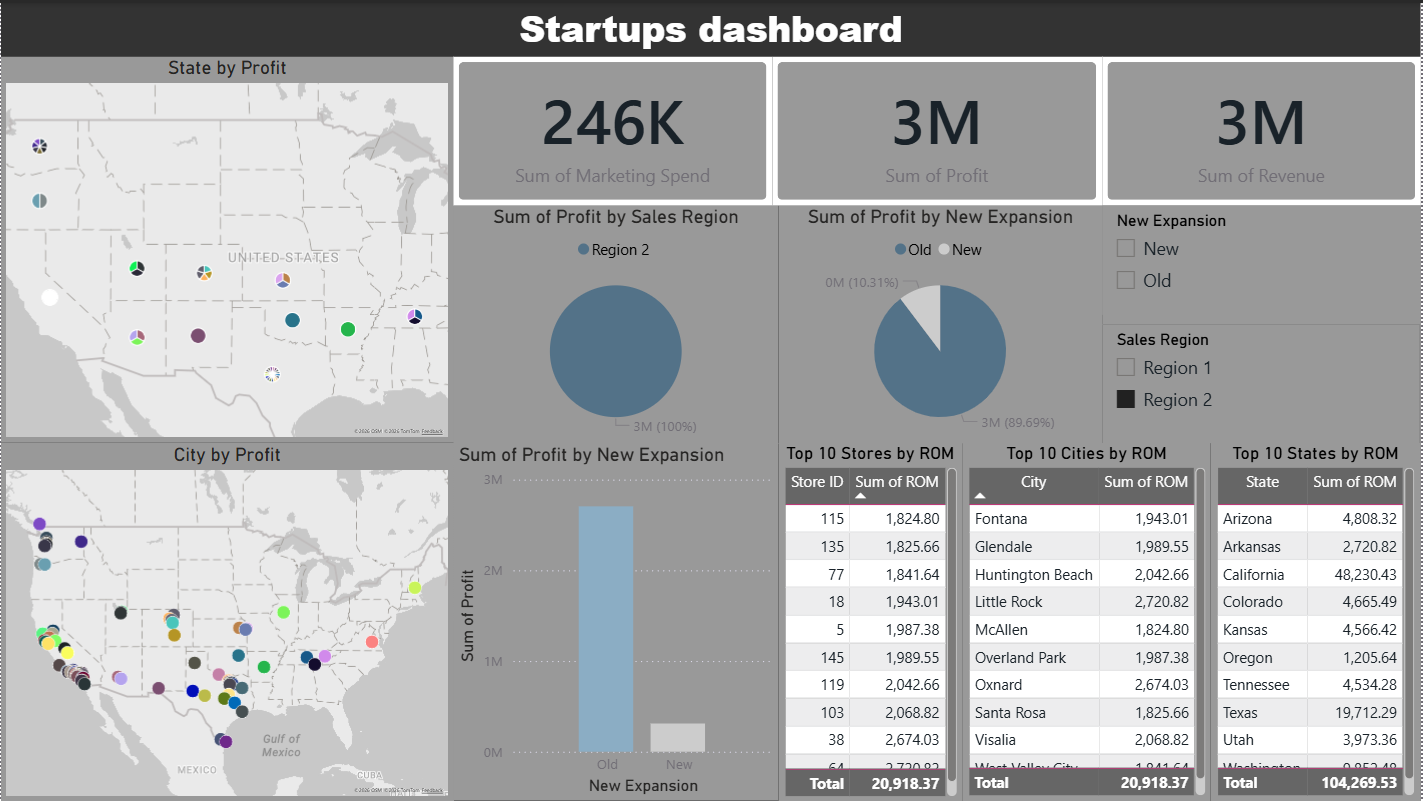

The dashboard page shown, as its layout file describes it:
{"tool":"powerbi","page":{"name":"Dashboard","canvas":[1280,720],"ordinal":1},"visuals":[{"type":"shape","title":"Startups dashboard","box":[0,0,1280,720],"z":0},{"type":"azureMap","title":"State by Profit","fields":{"Category":["startupsModified.State"],"Series":["startupsModified.Profit"]},"box":[0,48.5,408,348.3],"z":1000},{"type":"azureMap","title":"City by Profit","fields":{"Series":["startupsModified.Profit"],"Category":["startupsModified.City"]},"box":[0,396.8,408,323.4],"z":2000},{"type":"cardVisual","fields":{"Data":["Sum(startupsModified.Marketing Spend)"]},"box":[408,48.5,287.4,134.3],"z":3000},{"type":"cardVisual","fields":{"Data":["Sum(startupsModified.Profit)"]},"box":[695.4,48.5,297.3,134.3],"z":4000},{"type":"cardVisual","fields":{"Data":["Sum(startupsModified.Revenue)"]},"box":[992.7,48.5,287.4,134.3],"z":5000},{"type":"pieChart","fields":{"Category":["startupsModified.Sales Region"],"Y":["Sum(startupsModified.Profit)"]},"box":[408,182.6,293.1,214.2],"z":6000},{"type":"slicer","fields":{"Values":["startupsModified.New Expansion"]},"box":[992.7,182.9,287.4,98.3],"z":7000},{"type":"slicer","fields":{"Values":["startupsModified.New Expansion"]},"box":[992.7,182.9,287.4,107],"z":8000},{"type":"clusteredColumnChart","fields":{"Category":["startupsModified.New Expansion"],"Y":["Sum(startupsModified.Profit)"]},"box":[408,396.7,293.1,322.4],"z":9000},{"type":"slicer","fields":{"Values":["startupsModified.Sales Region"]},"box":[993,289.7,286.3,107.1],"z":10000},{"type":"pieChart","fields":{"Y":["Sum(startupsModified.Profit)"],"Category":["startupsModified.New Expansion"]},"box":[701.1,182.6,291.9,214.2],"z":11000},{"type":"tableEx","title":"Top 10 Stores by ROM","fields":{"Values":["startupsModified.Store ID","Sum(startupsModified.ROM)"]},"box":[701.1,396.7,165.7,323.5],"z":12000},{"type":"tableEx","title":"Top 10 Cities by ROM","fields":{"Values":["startupsModified.City","Sum(startupsModified.ROM)"]},"box":[867.1,397.1,224.3,322.9],"z":13000},{"type":"tableEx","title":"Top 10 States by ROM","fields":{"Values":["startupsModified.State","Sum(startupsModified.ROM)"]},"box":[1091.4,397.1,188.6,322.9],"z":14000}]}

Visuals, with their boxes in screenshot pixels (x1, y1, x2, y2), scaled from the page's 1280x720 canvas onto the 1423x801 screenshot:
"Startups dashboard" shape: Rect(0, 0, 1422, 800)
"State by Profit" azureMap: Rect(0, 54, 454, 441)
"City by Profit" azureMap: Rect(0, 441, 454, 800)
cardVisual - Sum(startupsModified.Marketing Spend): Rect(454, 54, 773, 203)
cardVisual - Sum(startupsModified.Profit): Rect(773, 54, 1104, 203)
cardVisual - Sum(startupsModified.Revenue): Rect(1104, 54, 1422, 203)
pieChart - startupsModified.Sales Region x Sum(startupsModified.Profit): Rect(454, 203, 779, 441)
slicer - startupsModified.New Expansion: Rect(1104, 203, 1422, 313)
slicer - startupsModified.New Expansion: Rect(1104, 203, 1422, 323)
clusteredColumnChart - startupsModified.New Expansion x Sum(startupsModified.Profit): Rect(454, 441, 779, 800)
slicer - startupsModified.Sales Region: Rect(1104, 322, 1422, 441)
pieChart - Sum(startupsModified.Profit) x startupsModified.New Expansion: Rect(779, 203, 1104, 441)
"Top 10 Stores by ROM" tableEx: Rect(779, 441, 964, 800)
"Top 10 Cities by ROM" tableEx: Rect(964, 442, 1213, 800)
"Top 10 States by ROM" tableEx: Rect(1213, 442, 1422, 800)
